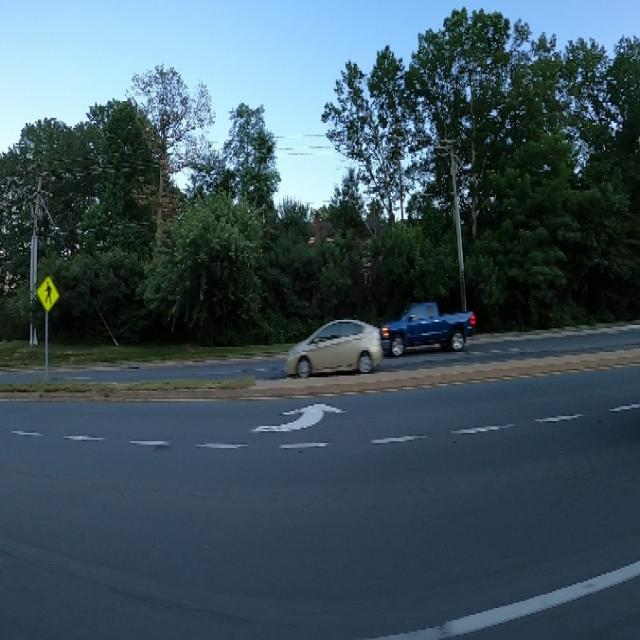car: (374, 292, 481, 373), (282, 308, 384, 386)
